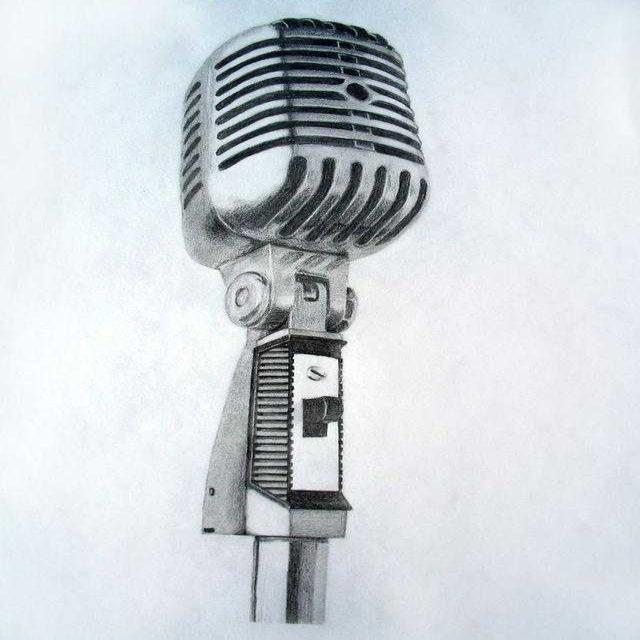microphone: (182, 21, 428, 624)
